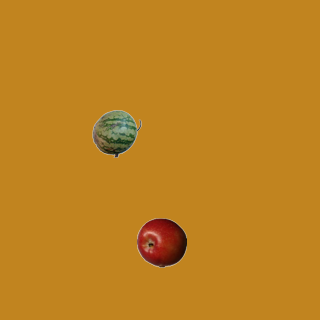Apple Braeburn: (136, 217, 186, 267)
Watermelon: (91, 108, 141, 158)
